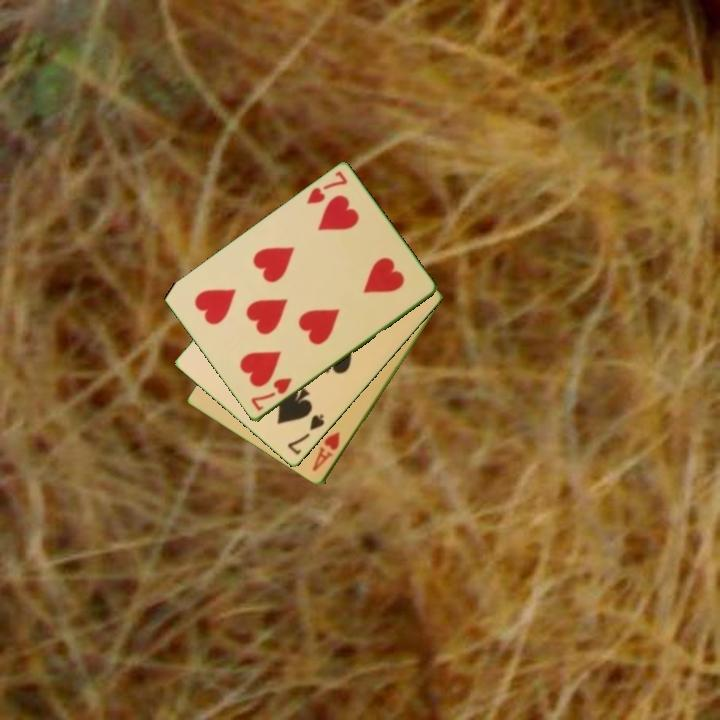7h: (247, 374, 295, 414), (303, 168, 350, 208)
7s: (284, 411, 328, 458)
Ah: (309, 428, 343, 475)
